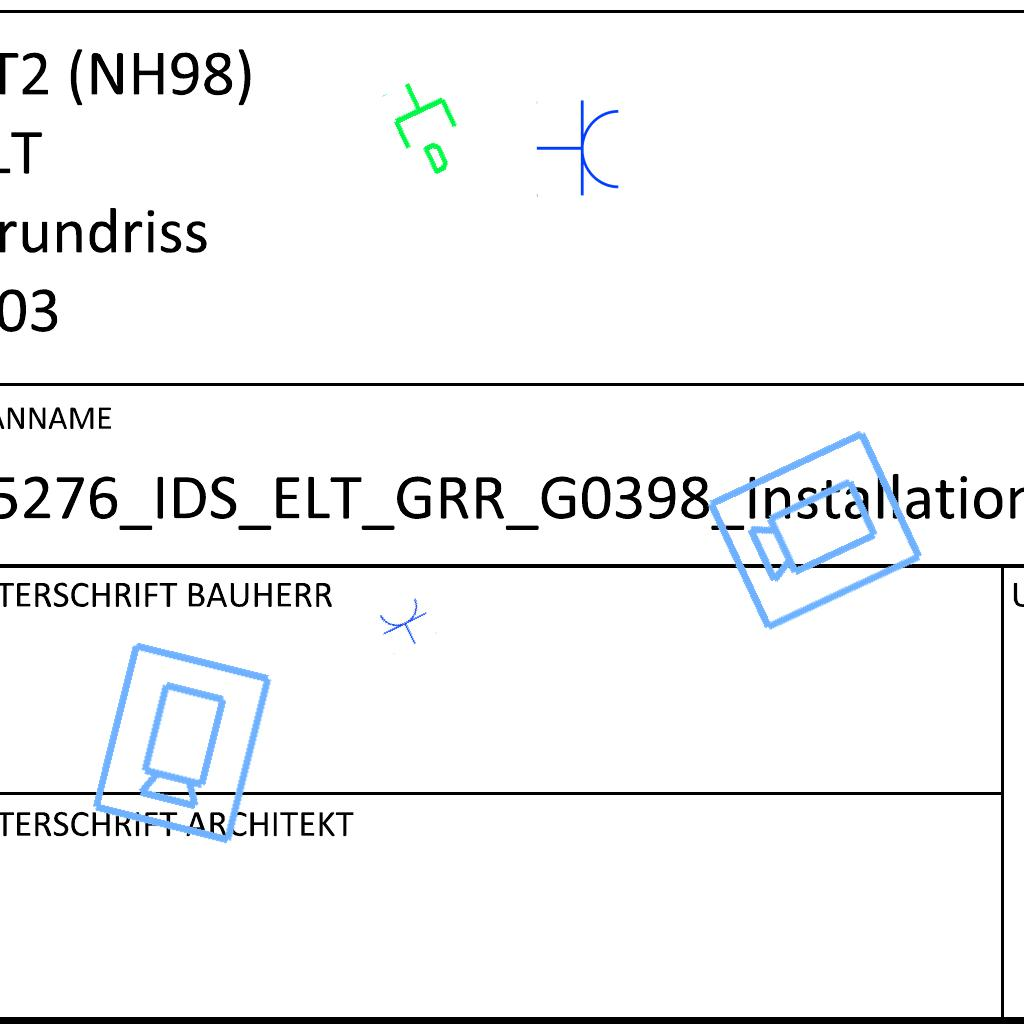Datenanschluss_einfach: (376, 66, 481, 186)
KFO_Kamera_mit_Festobjektiv: (699, 420, 931, 638), (84, 635, 278, 849)
Schukosteckdose_einfach: (536, 99, 623, 199), (374, 594, 438, 655)
